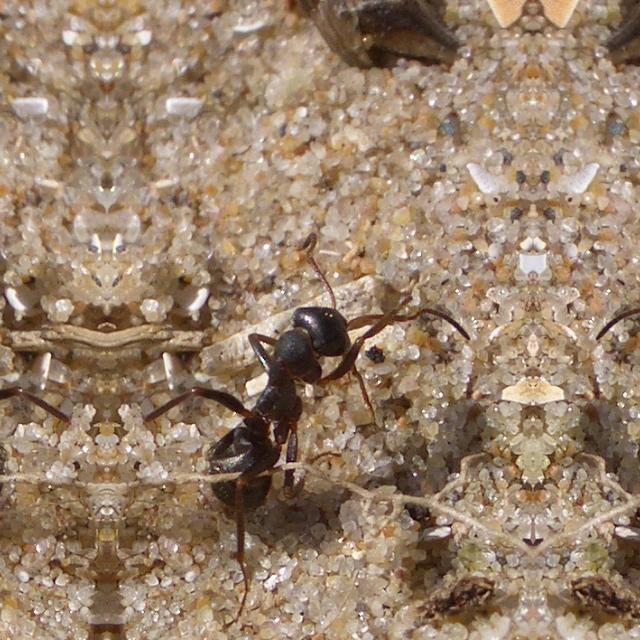Formica: (175, 256, 439, 534)
